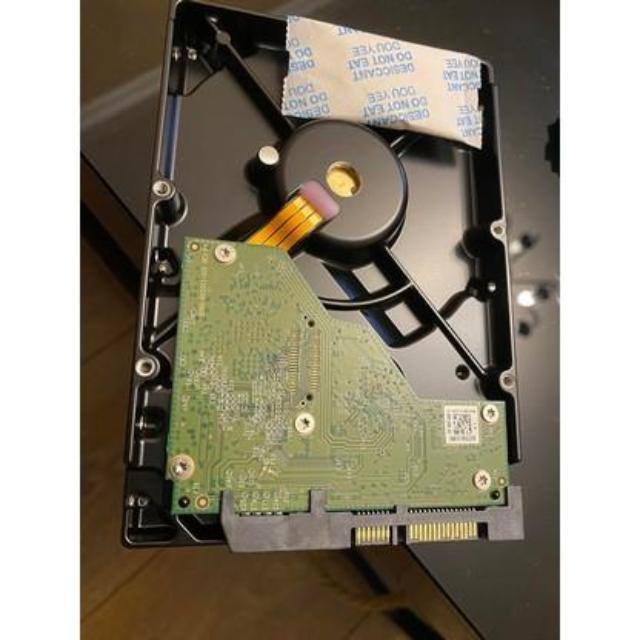DISK: (117, 2, 520, 552)
